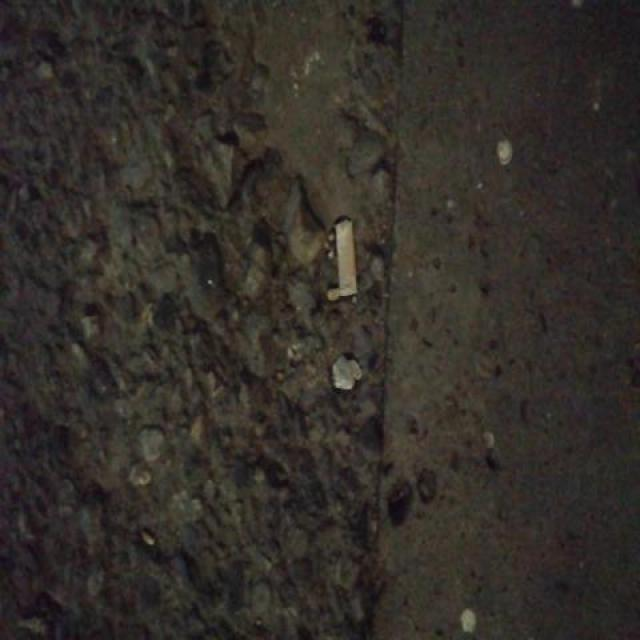non-organic waste: (328, 213, 361, 300)
